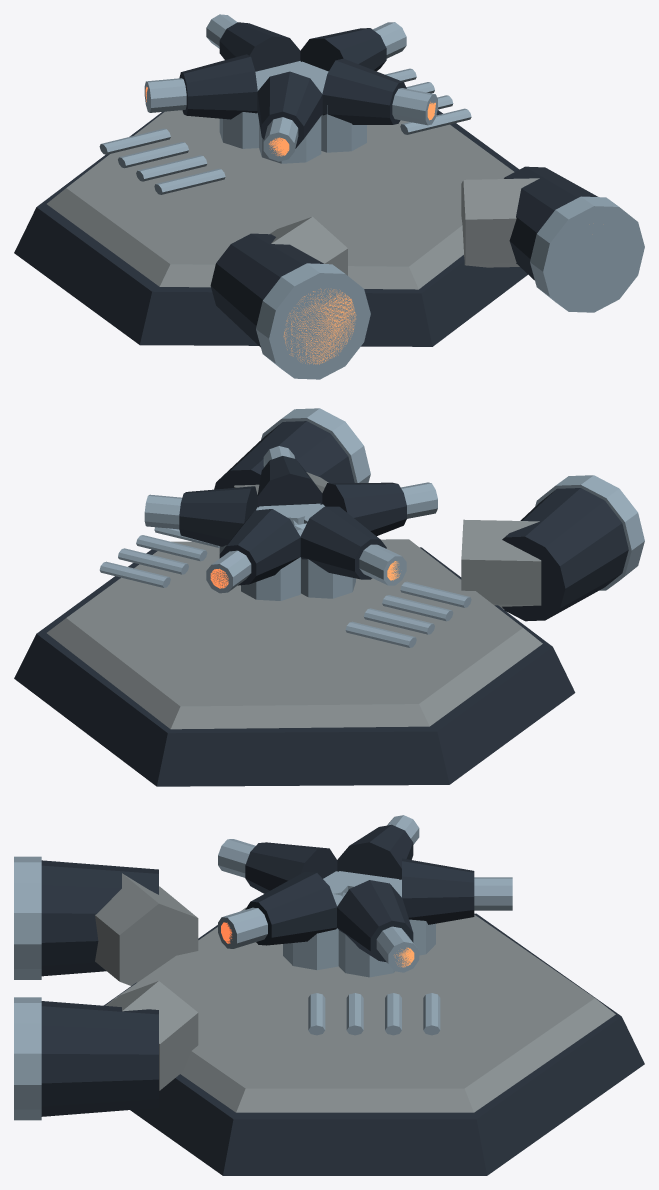
The model's file is c3_asteroid.glb.
The picture shows the model from 3 angles, top to bottom: view 1: azimuth 30°, elevation 25°; view 2: azimuth 150°, elevation 25°; view 3: azimuth 270°, elevation 25°; orthographic projection. The views are drawn at different scales.
Parts seen in each view (by area): view 1: asteroid / Armor, asteroid / Chassis, radial_emitter / Chassis, fragment_right / Titanium, fragment_left / Titanium, radial_emitter / Titanium, fragment_left / Chassis, asteroid / Titanium, fragment_right / Armor, fragment_right / Chassis, fragment_left / Energy, fragment_left / Armor; view 2: asteroid / Armor, asteroid / Chassis, radial_emitter / Chassis, fragment_left / Chassis, radial_emitter / Titanium, asteroid / Titanium, fragment_left / Armor, fragment_right / Chassis, fragment_left / Titanium, fragment_right / Titanium; view 3: asteroid / Armor, asteroid / Chassis, radial_emitter / Chassis, fragment_right / Chassis, radial_emitter / Titanium, fragment_left / Chassis, fragment_left / Armor, fragment_right / Armor, fragment_left / Titanium, fragment_right / Titanium, asteroid / Titanium.
Boxes of the visible parts, x1,y1,x2,y2 form: asteroid / Armor: (47,110,514,289); asteroid / Chassis: (14,110,527,346); radial_emitter / Chassis: (179,22,406,148); fragment_right / Titanium: (530,196,644,312); fragment_left / Titanium: (256,263,370,379); radial_emitter / Titanium: (144,14,437,163); fragment_left / Chassis: (210,233,323,347); asteroid / Titanium: (99,68,471,194); fragment_right / Armor: (461,178,539,267); fragment_right / Chassis: (504,166,597,280); fragment_left / Energy: (283,288,356,364); fragment_left / Armor: (269,216,347,275); asteroid / Armor: (47,539,542,729); asteroid / Chassis: (14,547,575,786); radial_emitter / Chassis: (179,456,406,585); fragment_left / Chassis: (502,488,628,621); radial_emitter / Titanium: (144,446,437,600); asteroid / Titanium: (99,527,471,647); fragment_left / Armor: (461,519,541,608); fragment_right / Chassis: (214,421,354,489); fragment_left / Titanium: (535,475,644,590); fragment_right / Titanium: (261,408,370,482); asteroid / Armor: (105,907,615,1112); asteroid / Chassis: (104,913,644,1175); radial_emitter / Chassis: (245,824,474,962); fragment_right / Chassis: (41,1001,158,1116); radial_emitter / Titanium: (218,815,512,977); fragment_left / Chassis: (41,860,158,976); fragment_left / Armor: (95,873,198,985); fragment_right / Armor: (107,981,198,1090); fragment_left / Titanium: (14,856,41,979); fragment_right / Titanium: (14,997,41,1120); asteroid / Titanium: (308,993,440,1035).
Size of the model in its own units: 1.24 by 0.5255 by 1.48.
